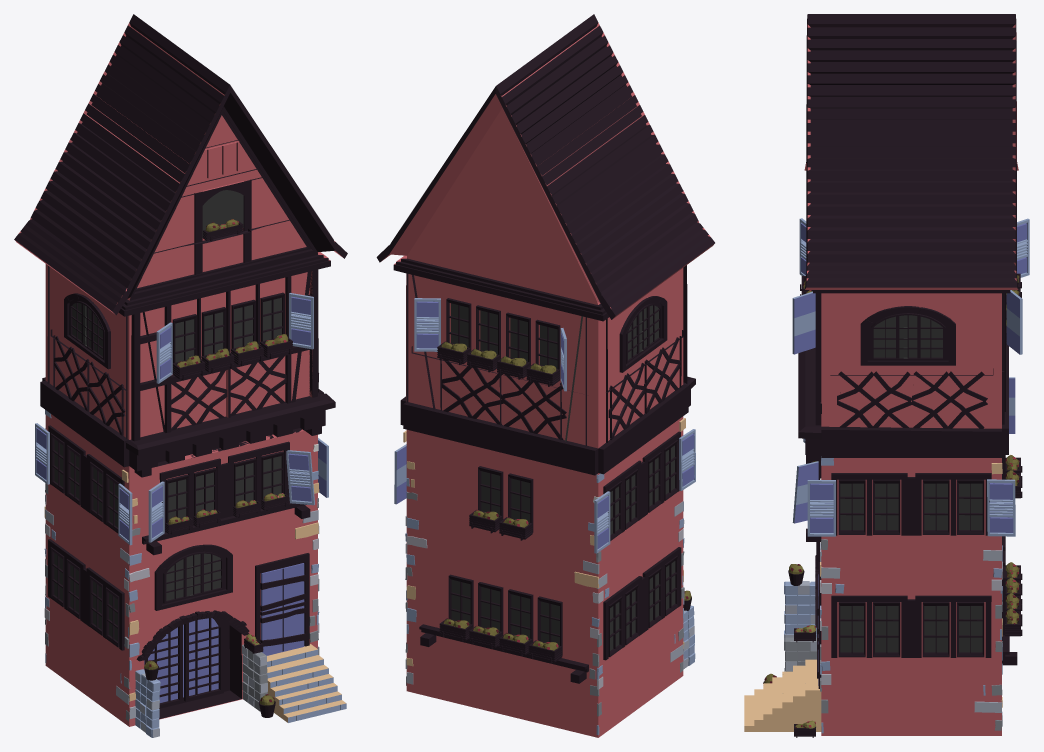
File: german_house.glb
3 views of the same model, side by side, from view 1: azimuth 30°, elevation 25°; view 2: azimuth 150°, elevation 25°; view 3: azimuth 270°, elevation 25° (orthographic). The views are drawn at different scales.
Visible parts, largest first — view 1: Object_4, Object_3, Object_2, Object_10, Object_6, Object_7, Object_12, Object_8, Object_9, Object_11; view 2: Object_3, Object_4, Object_2, Object_10, Object_6, Object_8, Object_12, Object_9, Object_7, Object_11; view 3: Object_4, Object_3, Object_2, Object_10, Object_6, Object_7, Object_12, Object_9, Object_8.
Boxes of the visible parts, x1=… form: Object_4: x1=14, y1=14, x2=347, y2=718; Object_3: x1=15, y1=22, x2=342, y2=726; Object_2: x1=54, y1=190, x2=281, y2=641; Object_10: x1=35, y1=293, x2=346, y2=737; Object_6: x1=36, y1=296, x2=326, y2=702; Object_7: x1=44, y1=469, x2=346, y2=722; Object_12: x1=45, y1=483, x2=319, y2=721; Object_8: x1=144, y1=219, x2=288, y2=705; Object_9: x1=45, y1=494, x2=319, y2=737; Object_11: x1=44, y1=523, x2=319, y2=632; Object_3: x1=381, y1=23, x2=713, y2=737; Object_4: x1=376, y1=14, x2=714, y2=683; Object_2: x1=451, y1=303, x2=675, y2=650; Object_10: x1=394, y1=298, x2=695, y2=735; Object_6: x1=396, y1=301, x2=694, y2=548; Object_8: x1=441, y1=342, x2=691, y2=650; Object_12: x1=405, y1=492, x2=684, y2=716; Object_9: x1=405, y1=501, x2=694, y2=684; Object_7: x1=403, y1=418, x2=685, y2=666; Object_11: x1=405, y1=520, x2=684, y2=689; Object_4: x1=763, y1=14, x2=1022, y2=737; Object_3: x1=804, y1=24, x2=1018, y2=735; Object_2: x1=840, y1=315, x2=982, y2=652; Object_10: x1=784, y1=218, x2=1029, y2=733; Object_6: x1=794, y1=223, x2=1027, y2=685; Object_7: x1=744, y1=463, x2=1002, y2=731; Object_12: x1=784, y1=539, x2=1002, y2=730; Object_9: x1=784, y1=543, x2=1002, y2=726; Object_8: x1=764, y1=275, x2=1019, y2=727.
Bounding box in the file's own units: 5 × 12.65 × 4.86.
